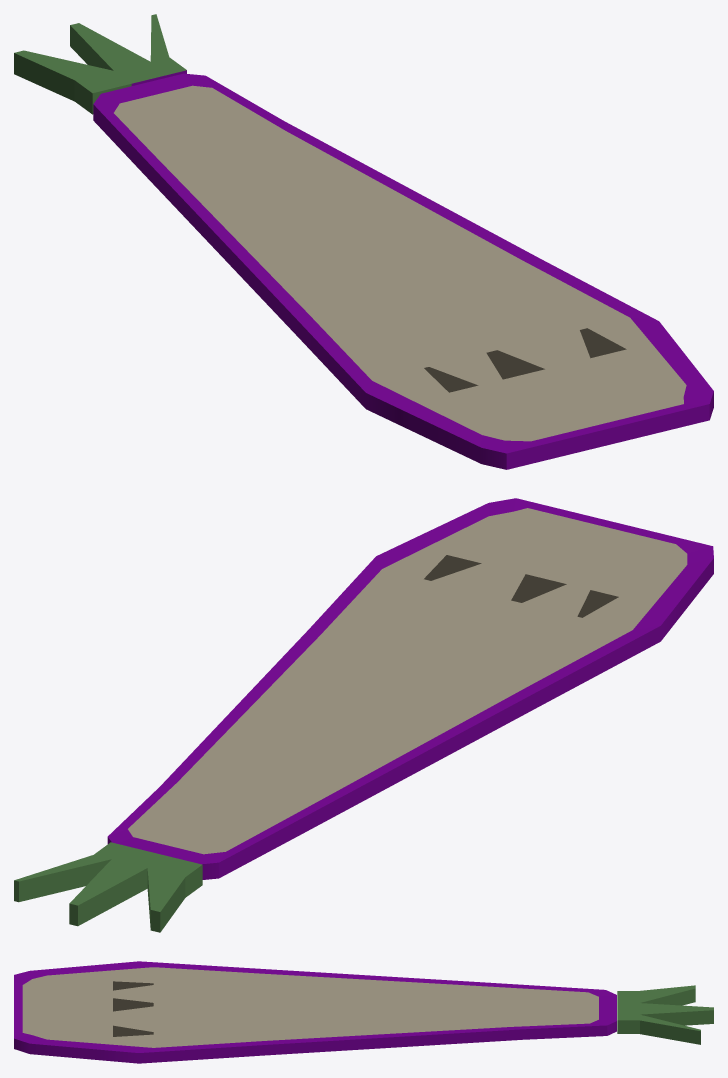
The model's file is eggplant.fbx.
3 renders of one model, top to bottom at view 1: azimuth 30°, elevation 25°; view 2: azimuth 150°, elevation 25°; view 3: azimuth 270°, elevation 25°, orthographic. The views are drawn at different scales.
Parts seen in each view (by area): view 1: pCube1, pCube2; view 2: pCube1, pCube2; view 3: pCube1, pCube2.
Boxes of the visible parts, x1,y1,x2,y2 form: pCube1: (93, 73, 713, 469); pCube2: (14, 14, 186, 114); pCube1: (107, 498, 713, 879); pCube2: (14, 842, 202, 932); pCube1: (14, 961, 616, 1063); pCube2: (617, 985, 713, 1044).
Size of the model in its own units: 1.6 by 0.1109 by 5.15.
